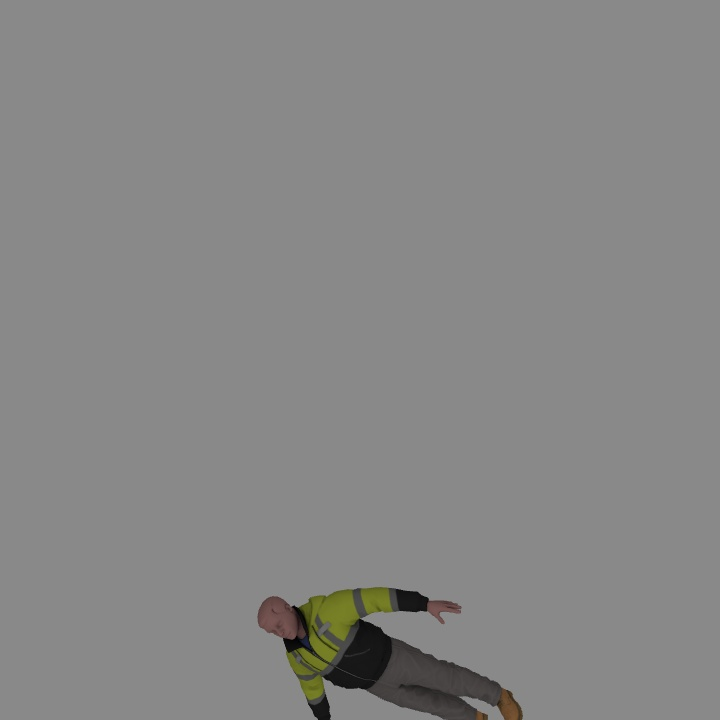victim: (263, 587, 526, 720)
